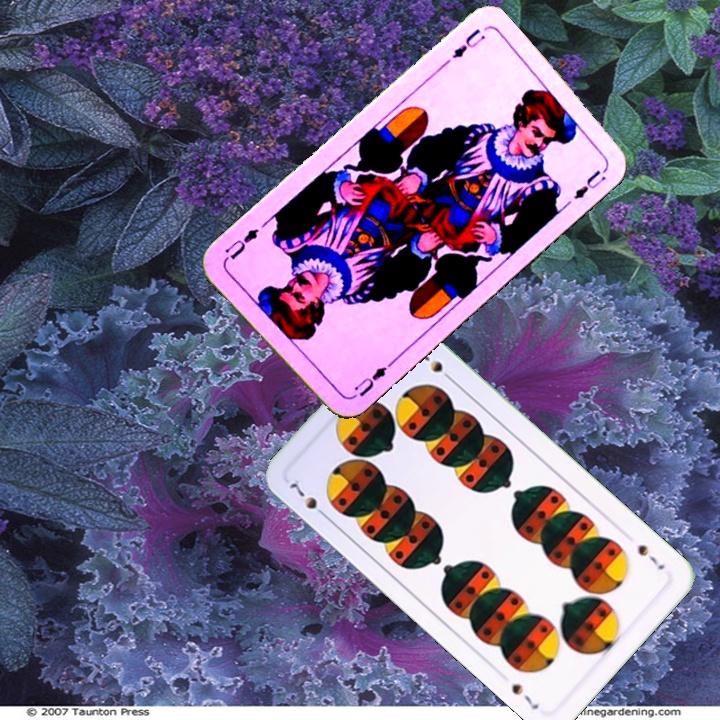EU: (350, 358, 395, 400), (448, 24, 488, 61)
S7: (284, 475, 331, 522), (633, 540, 668, 573)
